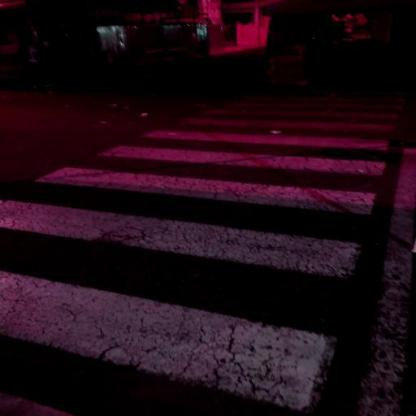crosswalk: (1, 141, 394, 222)
